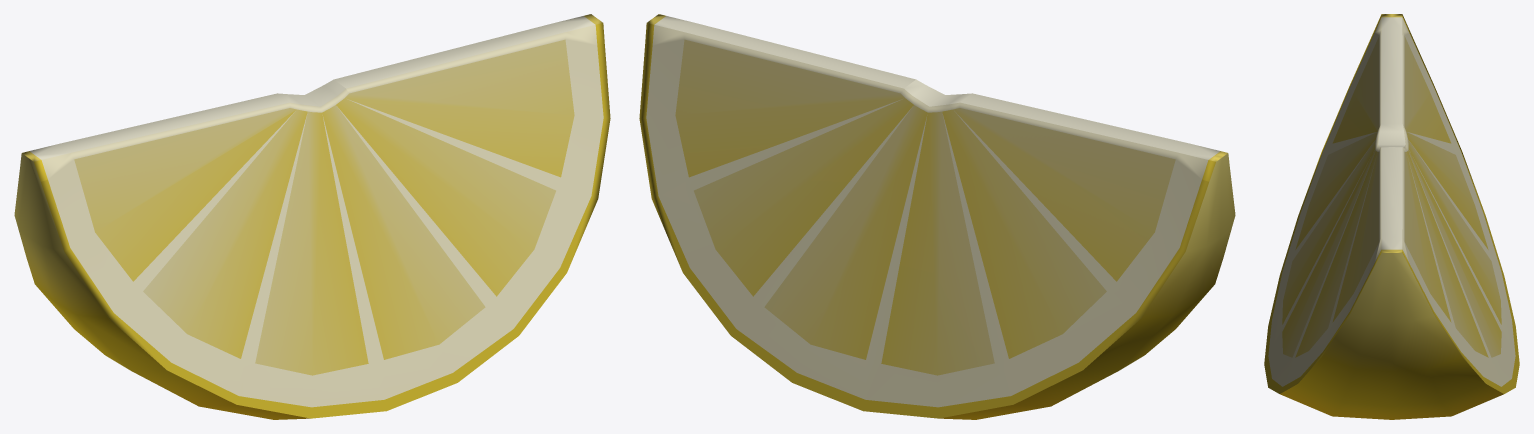
3 views of the same model, side by side, from view 1: azimuth 30°, elevation 25°; view 2: azimuth 150°, elevation 25°; view 3: azimuth 270°, elevation 25° (orthographic). The views are drawn at different scales.
Visible parts, largest first — view 1: SliceOfLemon; view 2: SliceOfLemon; view 3: SliceOfLemon.
Part boxes in pixels (<box>): SliceOfLemon: <box>14,14,610,419</box>; SliceOfLemon: <box>639,14,1235,419</box>; SliceOfLemon: <box>1264,14,1519,419</box>.
Size of the model in its own units: 0.5 by 0.2511 by 0.2261.
